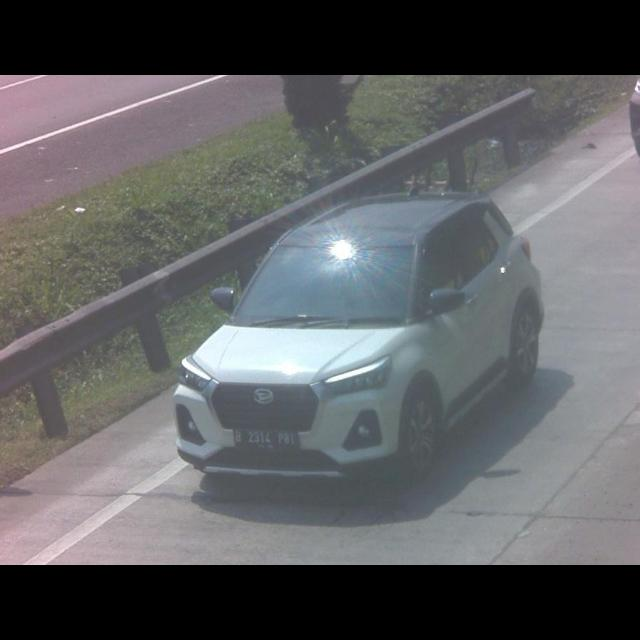plate: (232, 426, 300, 449)
